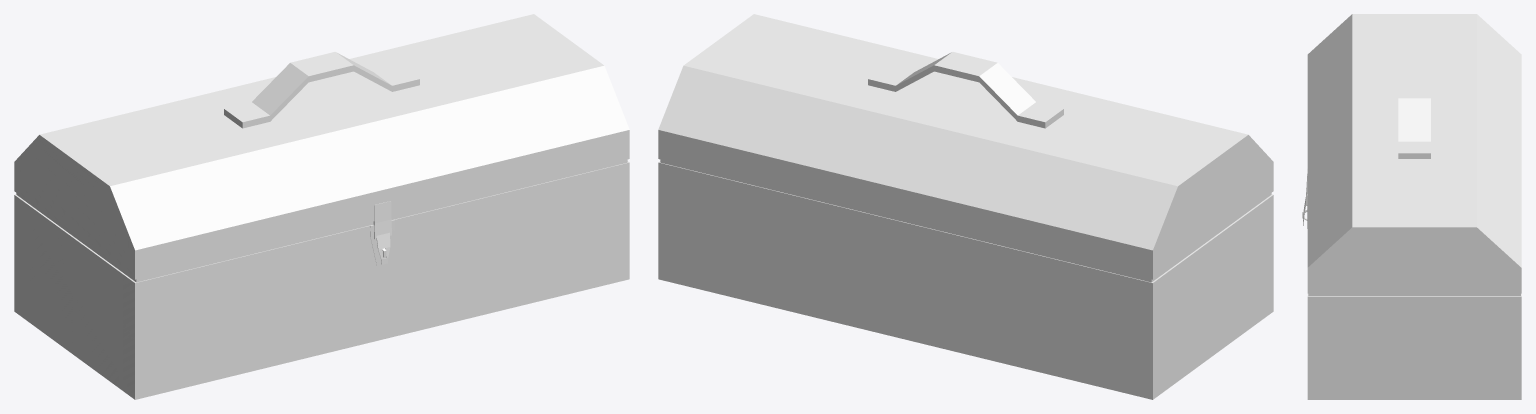
File: Tool_02_Tool_Box_Closed_01.glb
The picture shows the model from 3 angles, left to right: view 1: azimuth 30°, elevation 25°; view 2: azimuth 150°, elevation 25°; view 3: azimuth 270°, elevation 25°; orthographic projection. The views are drawn at different scales.
Parts seen in each view (by area): view 1: Tool_02_Tool_Box_Closed_01; view 2: Tool_02_Tool_Box_Closed_01; view 3: Tool_02_Tool_Box_Closed_01.
Part boxes in pixels (x1,y1,x2,y2): Tool_02_Tool_Box_Closed_01: (14, 14, 629, 399); Tool_02_Tool_Box_Closed_01: (658, 14, 1273, 399); Tool_02_Tool_Box_Closed_01: (1302, 14, 1521, 399).
Size of the model in its own units: 0.67 by 0.2995 by 0.2907.
Materials: 1 (1 with a texture image).
